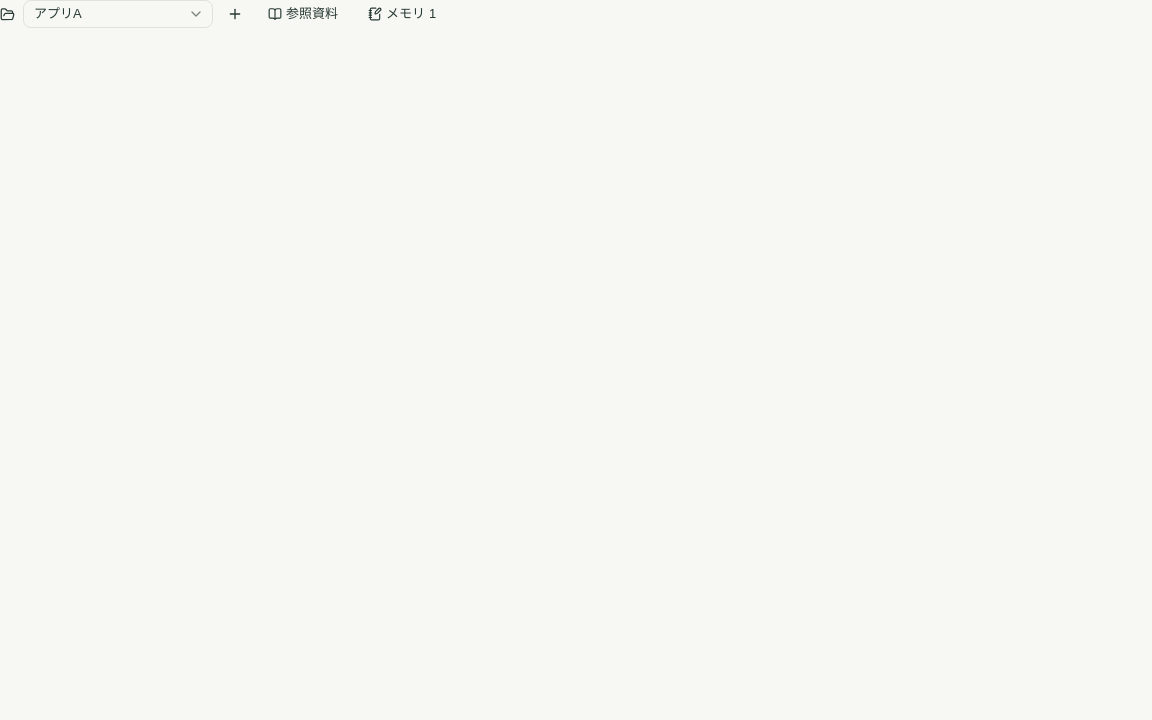
Scenario: confirms the project and deletion scope, supports cancellation, and deletes only on confirmation
Click the button with aria-label "プロジェクトメモリ" at (402, 14), box left=357, top=0, right=447, bottom=28
(page scrolled)
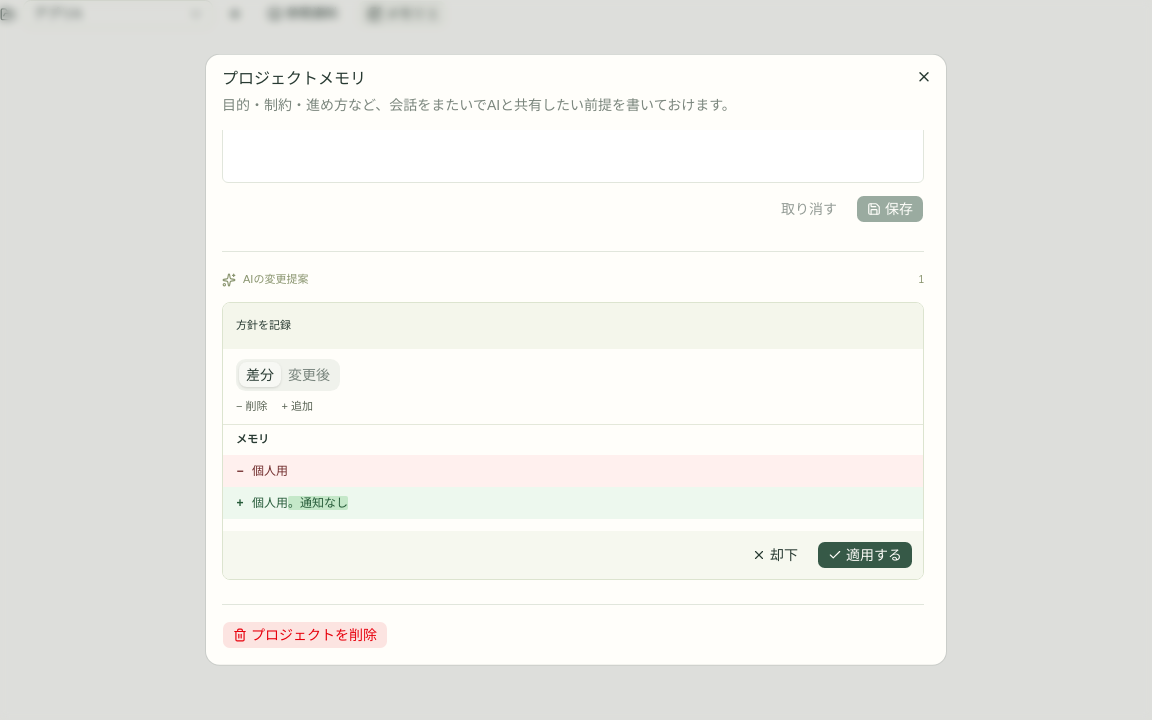
Click the button "プロジェクトを削除" at (305, 635), box left=222, top=621, right=388, bottom=649
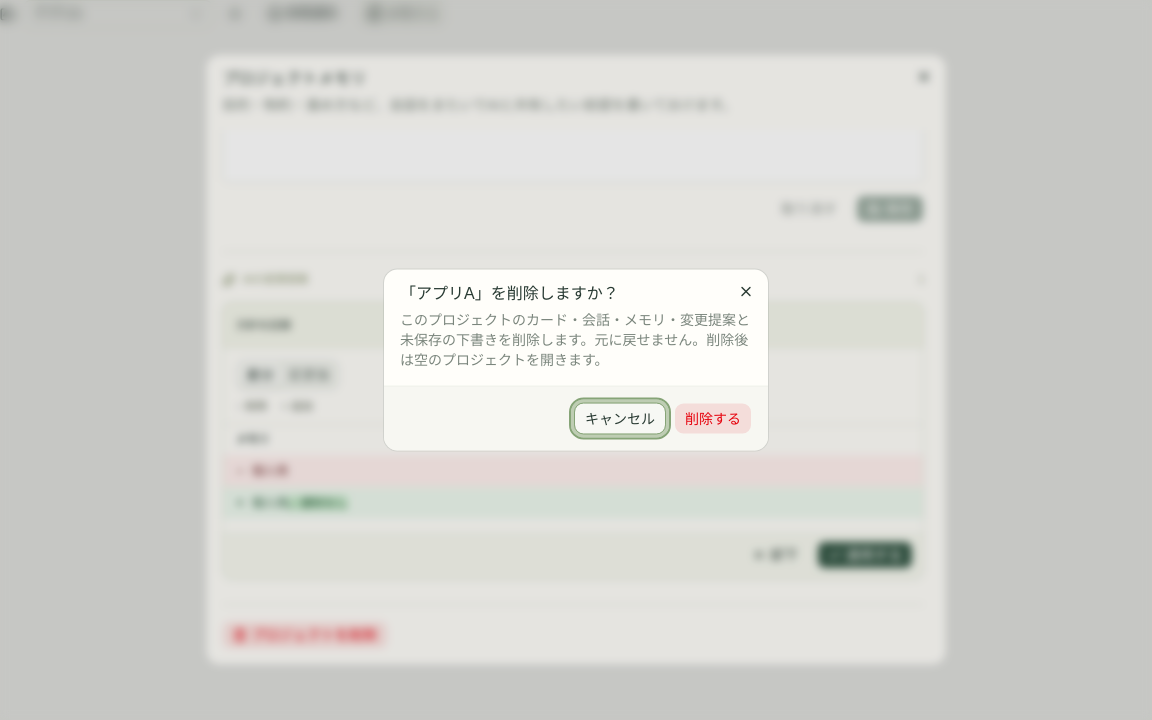
Now the heading "「アプリA」を削除しますか？" is shown, box left=400, top=284, right=619, bottom=302
Now the text "元に戻せません" shows "空のプロジェクト", box left=400, top=312, right=750, bottom=368
Click the button "キャンセル" at (620, 418), box left=574, top=402, right=666, bottom=434
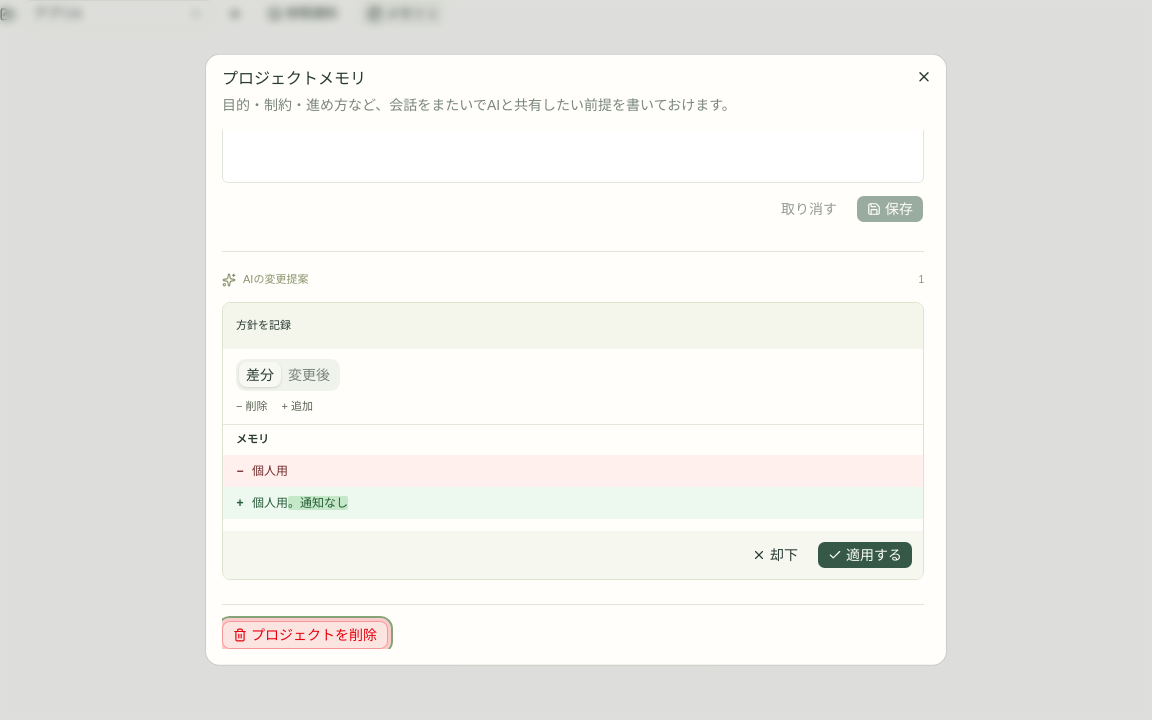
Click the button "プロジェクトを削除" at (305, 635), box left=222, top=621, right=388, bottom=649
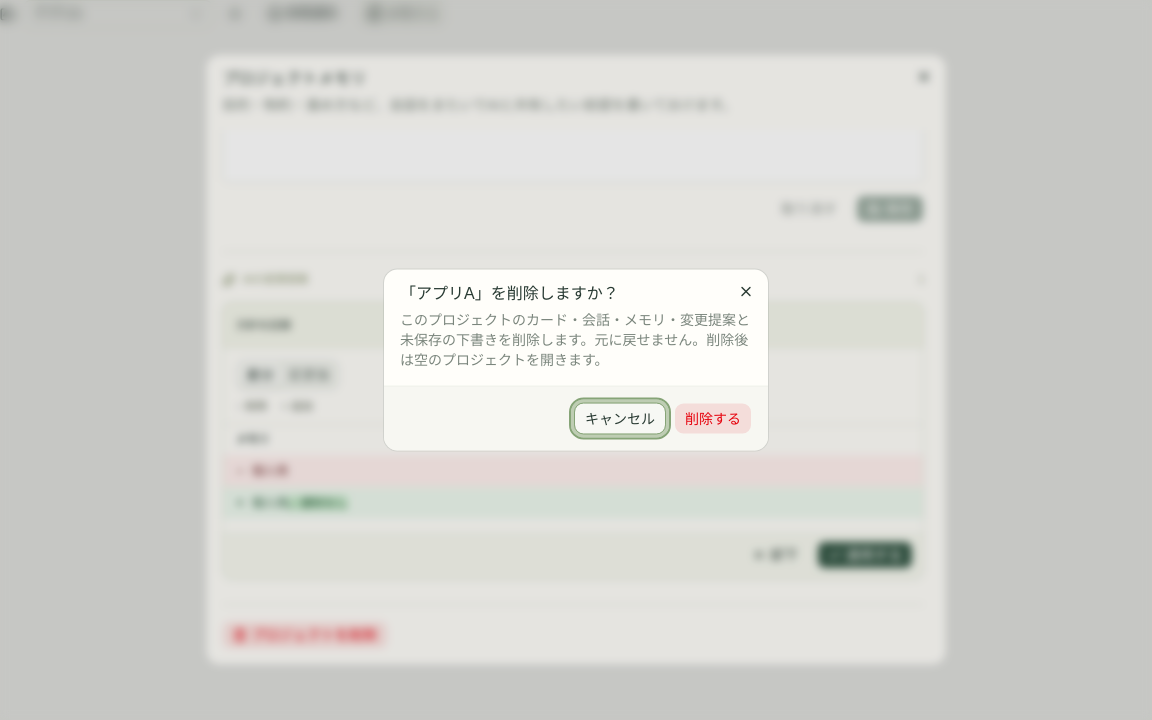
Click the button "削除する" at (713, 418), box left=674, top=402, right=752, bottom=434
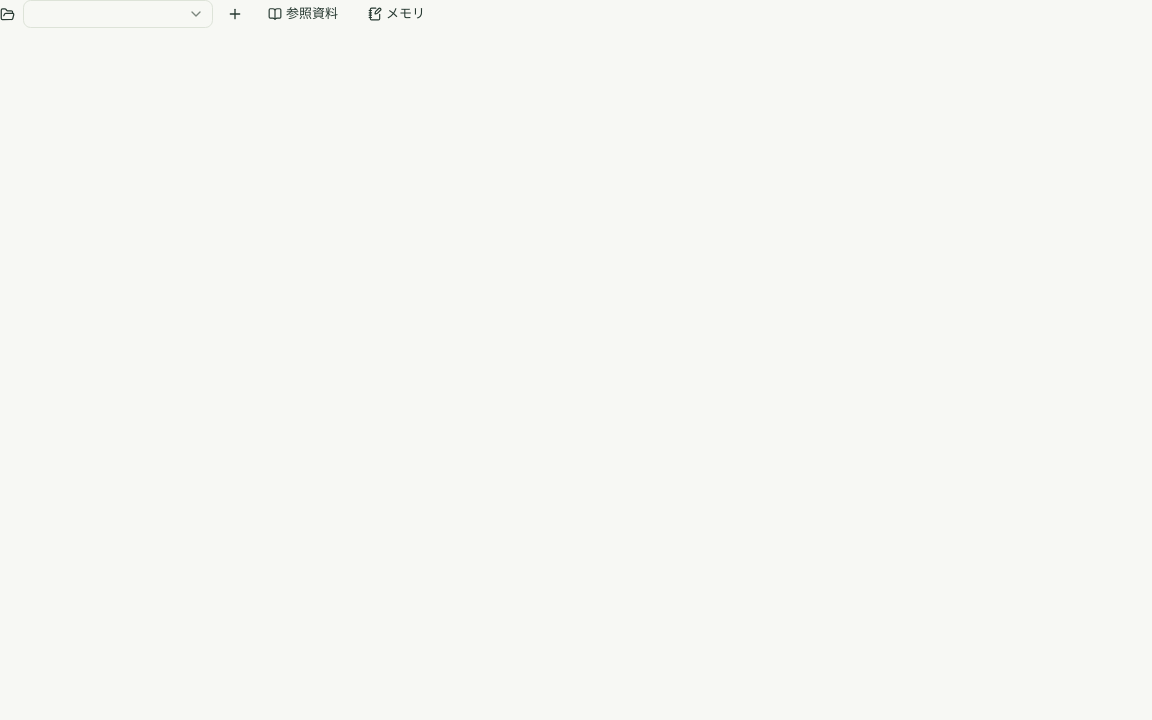
Now the dialog is gone
